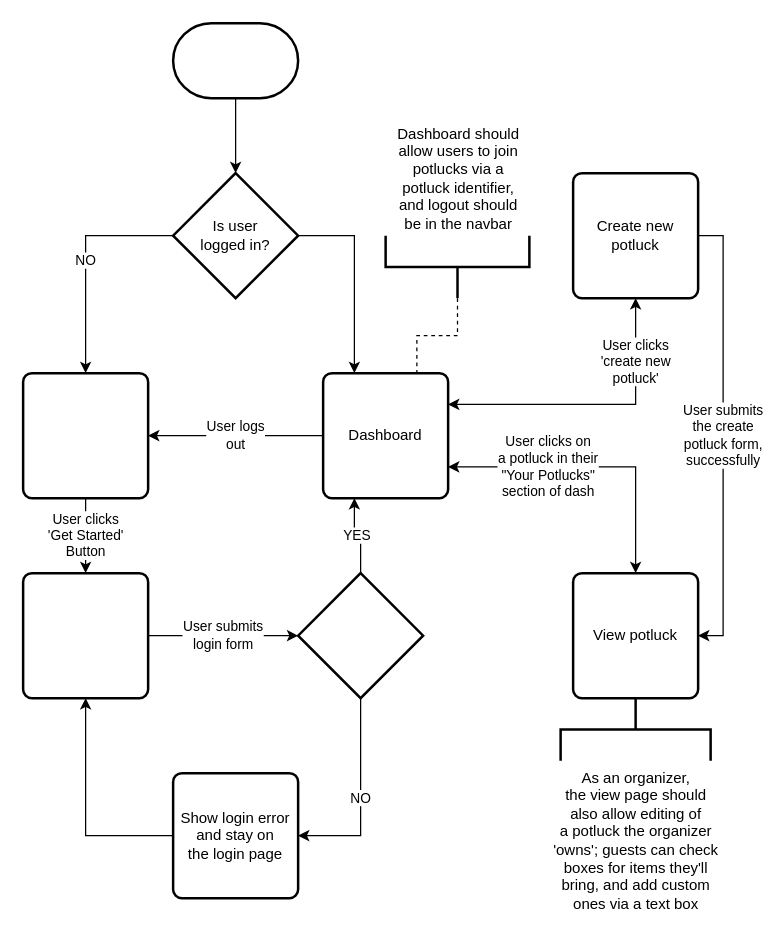
Some shapes in this 784 by 934 pixel diagram are drawn without their labels. Each missing label, with the centre of its shape:
Cover Page: pixel 85 435
Login is successful?: pixel 360 635
Login Page: pixel 85 635
Start: pixel 235 60
